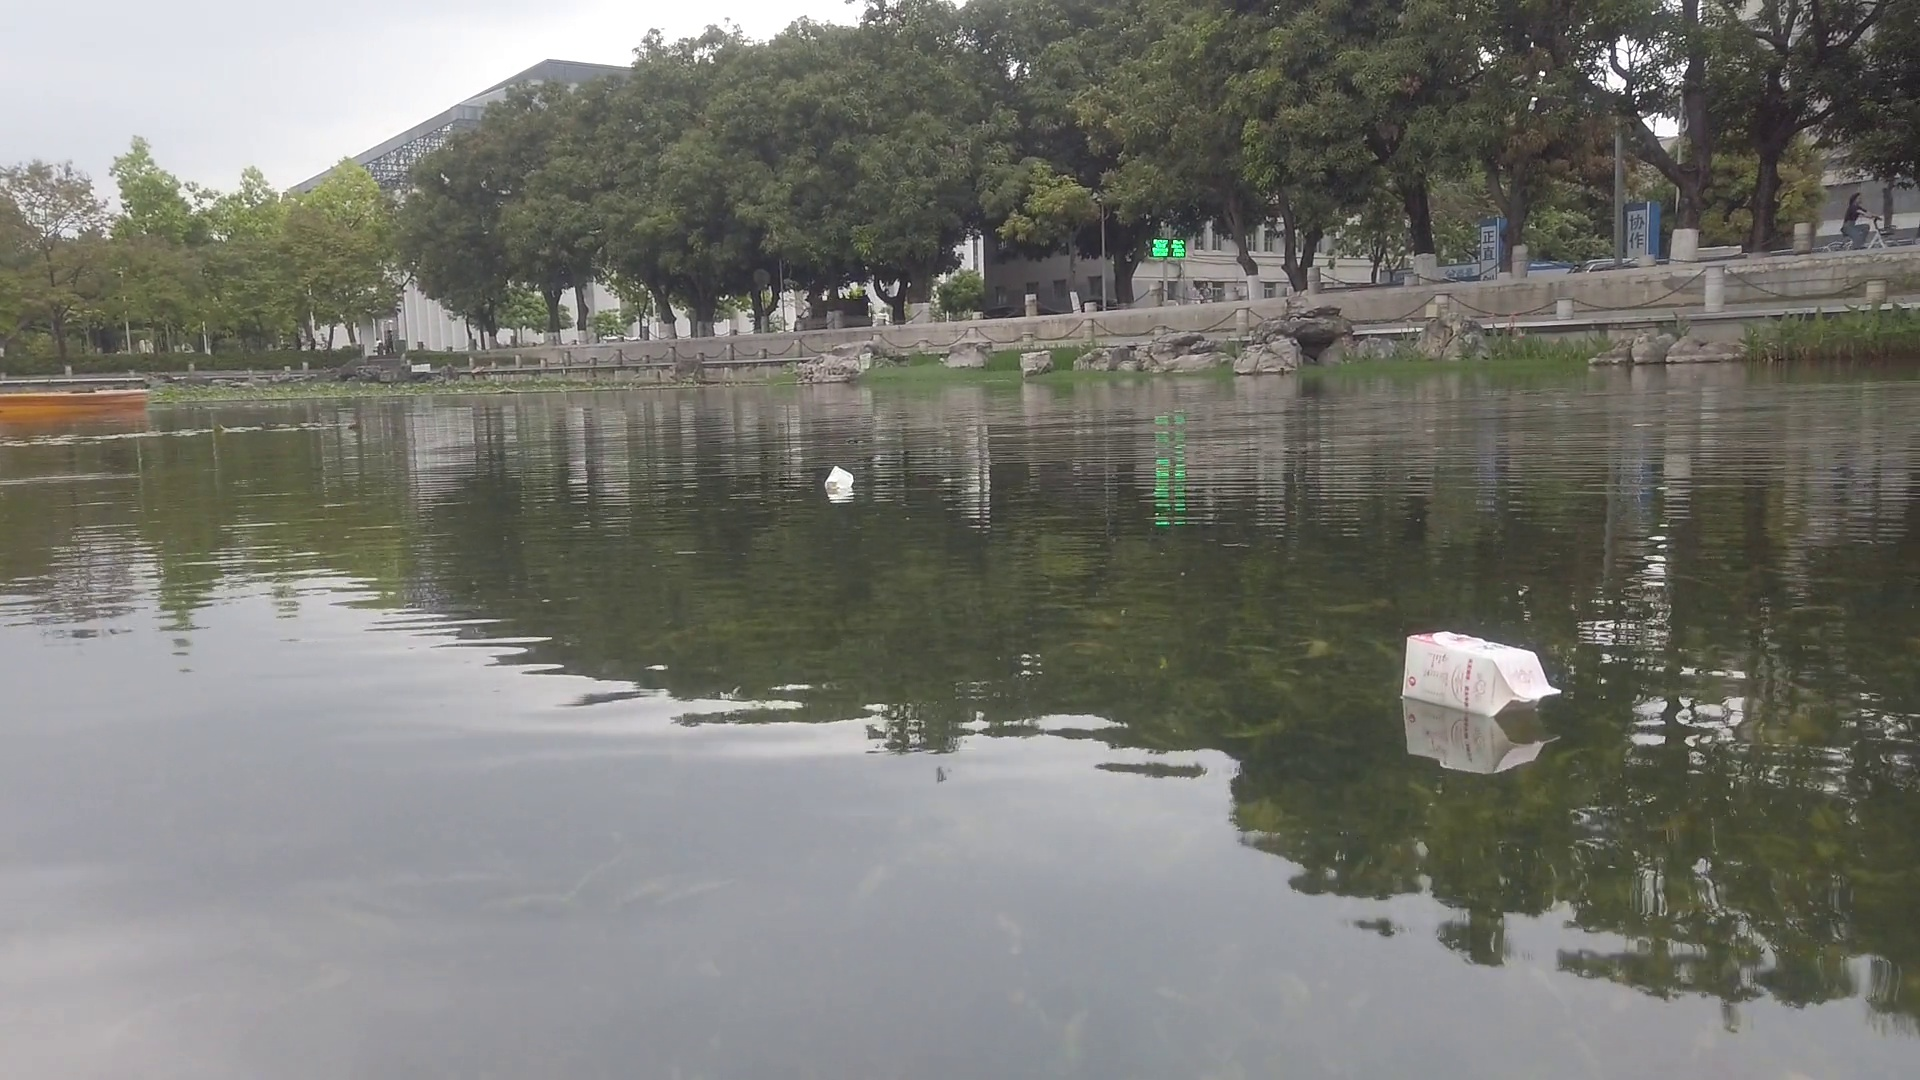carton: (1400, 629, 1563, 715), (824, 467, 856, 501)
